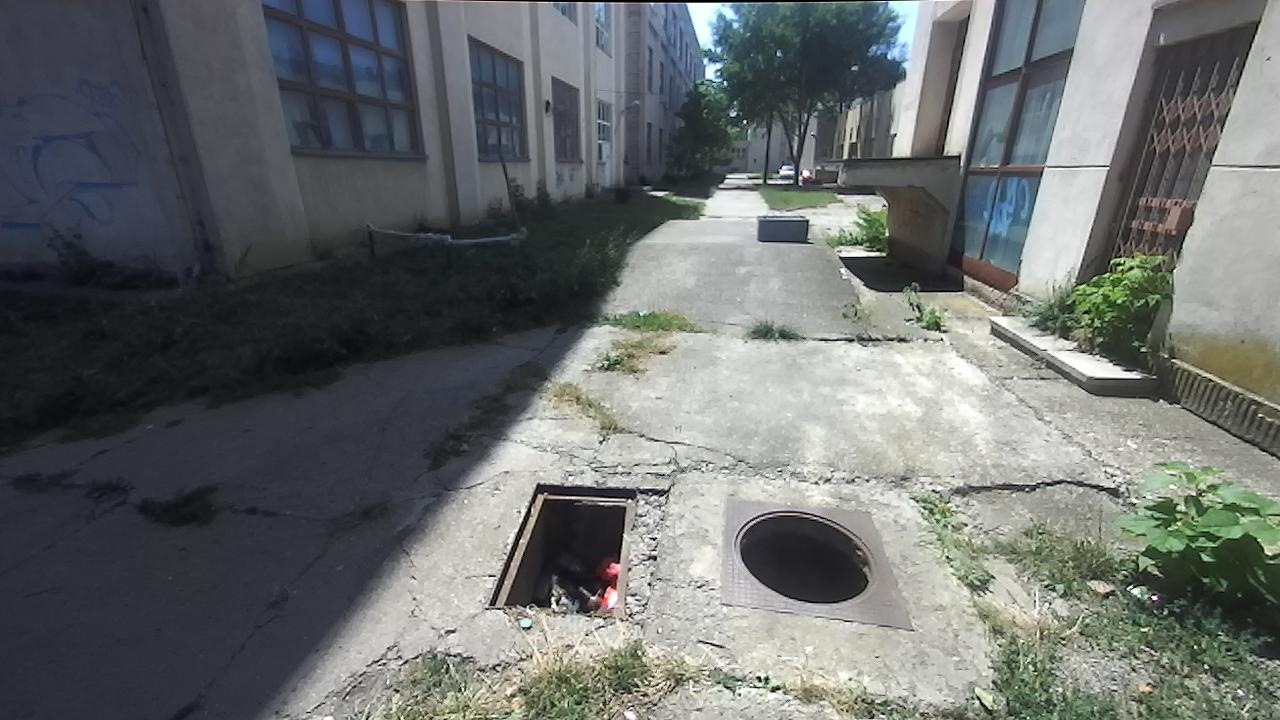drain: (480, 479, 644, 624), (730, 505, 883, 609)
